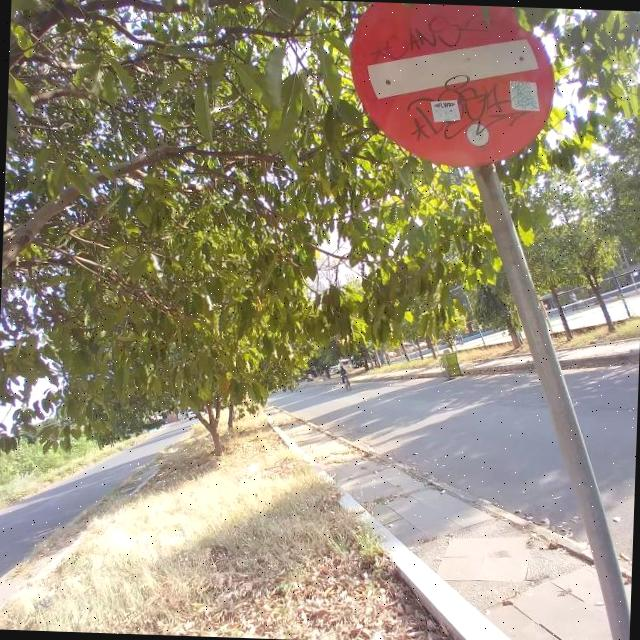Zakaz wjazdu: (346, 2, 554, 168)
